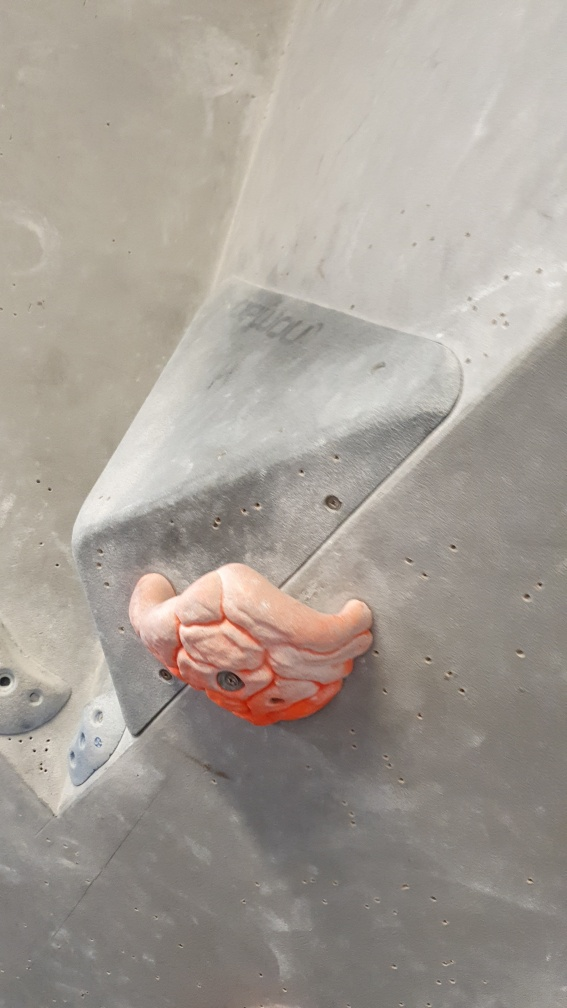Jug: (130, 555, 380, 731)
